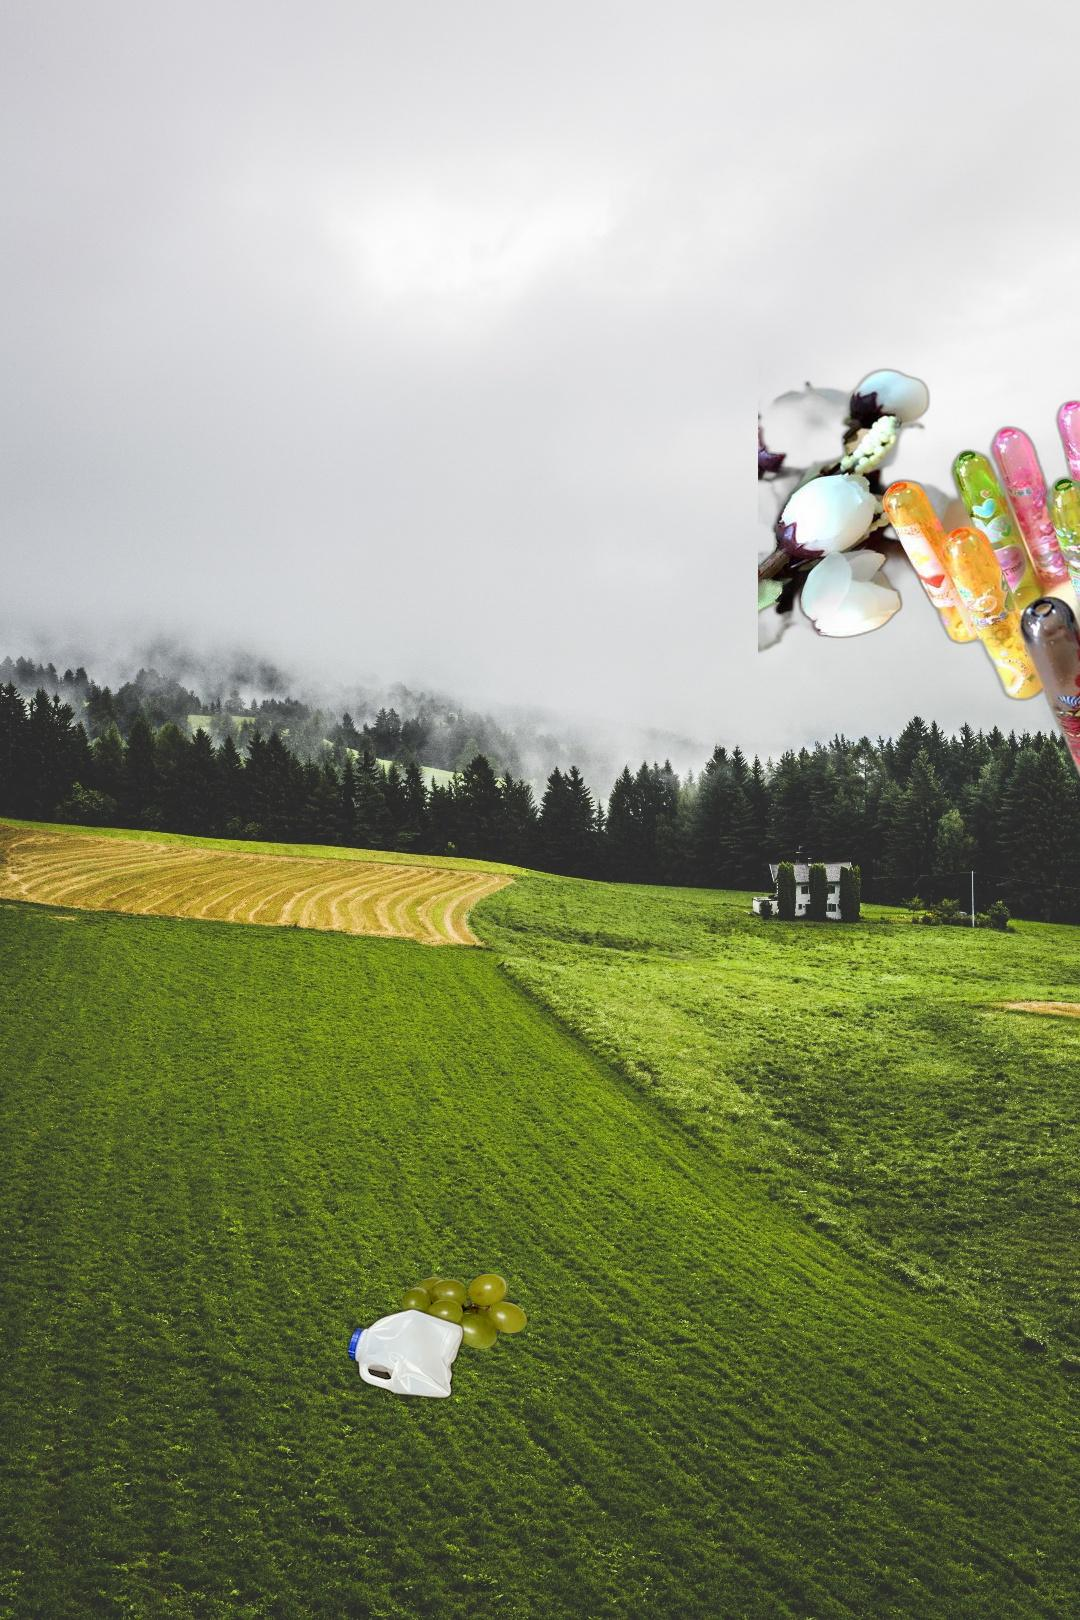biological: (372, 1270, 530, 1362)
penholder: (758, 275, 1080, 785)
plastic-bottles: (344, 1303, 466, 1405)
